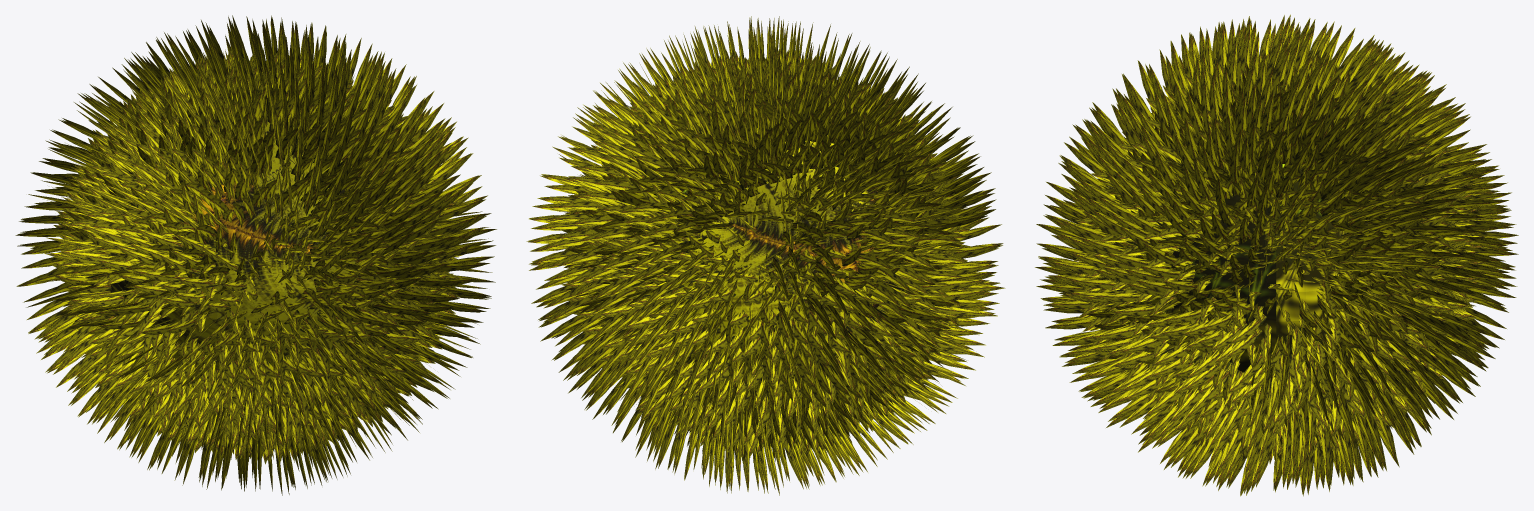
File: particulas2.fbx
3 views of the same model, side by side, from view 1: azimuth 30°, elevation 25°; view 2: azimuth 150°, elevation 25°; view 3: azimuth 270°, elevation 25° (orthographic).
Parts seen in each view (by area): view 1: Sphere, Sphere|Plane.005|Dupli|256, Sphere|Plane.005|Dupli|244, Sphere|Plane.005|Dupli|259, Sphere|Plane.005|Dupli|308, Sphere|Plane.005|Dupli|1083, Sphere|Plane.005|Dupli|31, Sphere|Plane.005|Dupli|160, Sphere|Plane.005|Dupli|245, Sphere|Plane.005|Dupli|56, Sphere|Plane.005|Dupli|254, Sphere|Plane.005|Dupli|148 (+36 smaller); view 2: Sphere, Sphere|Plane.005|Dupli|204, Sphere|Plane.005|Dupli|654, Sphere|Plane.005|Dupli|241, Sphere|Plane.005|Dupli|259, Sphere|Plane.005|Dupli|284, Sphere|Plane.005|Dupli|327, Sphere|Plane.005|Dupli|506, Sphere|Plane.005|Dupli|326, Sphere|Plane.005|Dupli|200, Sphere|Plane.005|Dupli|287, Sphere|Plane.005|Dupli|438 (+26 smaller); view 3: Sphere, Sphere|Plane.005|Dupli|777, Sphere|Plane.005|Dupli|864, Sphere|Plane.005|Dupli|763, Sphere|Plane.005|Dupli|834, Sphere|Plane.005|Dupli|824, Sphere|Plane.005|Dupli|762, Sphere|Plane.005|Dupli|741, Sphere|Plane.005|Dupli|723, Sphere|Plane.005|Dupli|776, Sphere|Plane.005|Dupli|708, Sphere|Plane.005|Dupli|908 (+64 smaller).
Boxes of the visible parts, <box> form: Sphere: <box>107,117,361,385</box>; Sphere|Plane.005|Dupli|256: <box>63,295,123,358</box>; Sphere|Plane.005|Dupli|244: <box>56,235,139,283</box>; Sphere|Plane.005|Dupli|259: <box>26,276,112,311</box>; Sphere|Plane.005|Dupli|308: <box>38,284,111,339</box>; Sphere|Plane.005|Dupli|1083: <box>271,59,301,142</box>; Sphere|Plane.005|Dupli|31: <box>258,62,288,147</box>; Sphere|Plane.005|Dupli|160: <box>133,208,186,267</box>; Sphere|Plane.005|Dupli|245: <box>44,229,120,285</box>; Sphere|Plane.005|Dupli|56: <box>265,109,297,177</box>; Sphere|Plane.005|Dupli|254: <box>63,312,127,371</box>; Sphere|Plane.005|Dupli|148: <box>175,214,217,273</box>; Sphere: <box>631,128,917,401</box>; Sphere|Plane.005|Dupli|204: <box>913,195,987,246</box>; Sphere|Plane.005|Dupli|654: <box>580,173,650,227</box>; Sphere|Plane.005|Dupli|241: <box>903,262,989,310</box>; Sphere|Plane.005|Dupli|259: <box>872,296,940,347</box>; Sphere|Plane.005|Dupli|284: <box>856,248,912,293</box>; Sphere|Plane.005|Dupli|327: <box>839,324,884,376</box>; Sphere|Plane.005|Dupli|506: <box>673,340,720,411</box>; Sphere|Plane.005|Dupli|326: <box>845,313,894,367</box>; Sphere|Plane.005|Dupli|200: <box>920,225,1002,262</box>; Sphere|Plane.005|Dupli|287: <box>841,241,892,276</box>; Sphere|Plane.005|Dupli|438: <box>754,394,790,471</box>; Sphere: <box>1129,156,1367,372</box>; Sphere|Plane.005|Dupli|777: <box>1238,336,1287,406</box>; Sphere|Plane.005|Dupli|864: <box>1184,362,1243,421</box>; Sphere|Plane.005|Dupli|763: <box>1297,355,1339,422</box>; Sphere|Plane.005|Dupli|834: <box>1260,77,1317,149</box>; Sphere|Plane.005|Dupli|824: <box>1230,302,1271,349</box>; Sphere|Plane.005|Dupli|762: <box>1309,353,1351,415</box>; Sphere|Plane.005|Dupli|741: <box>1312,193,1364,234</box>; Sphere|Plane.005|Dupli|723: <box>1333,206,1401,251</box>; Sphere|Plane.005|Dupli|776: <box>1258,328,1307,398</box>; Sphere|Plane.005|Dupli|708: <box>1350,322,1394,393</box>; Sphere|Plane.005|Dupli|908: <box>1139,249,1197,298</box>.
Size of the model in its own units: 10.47 by 10.23 by 10.48.
